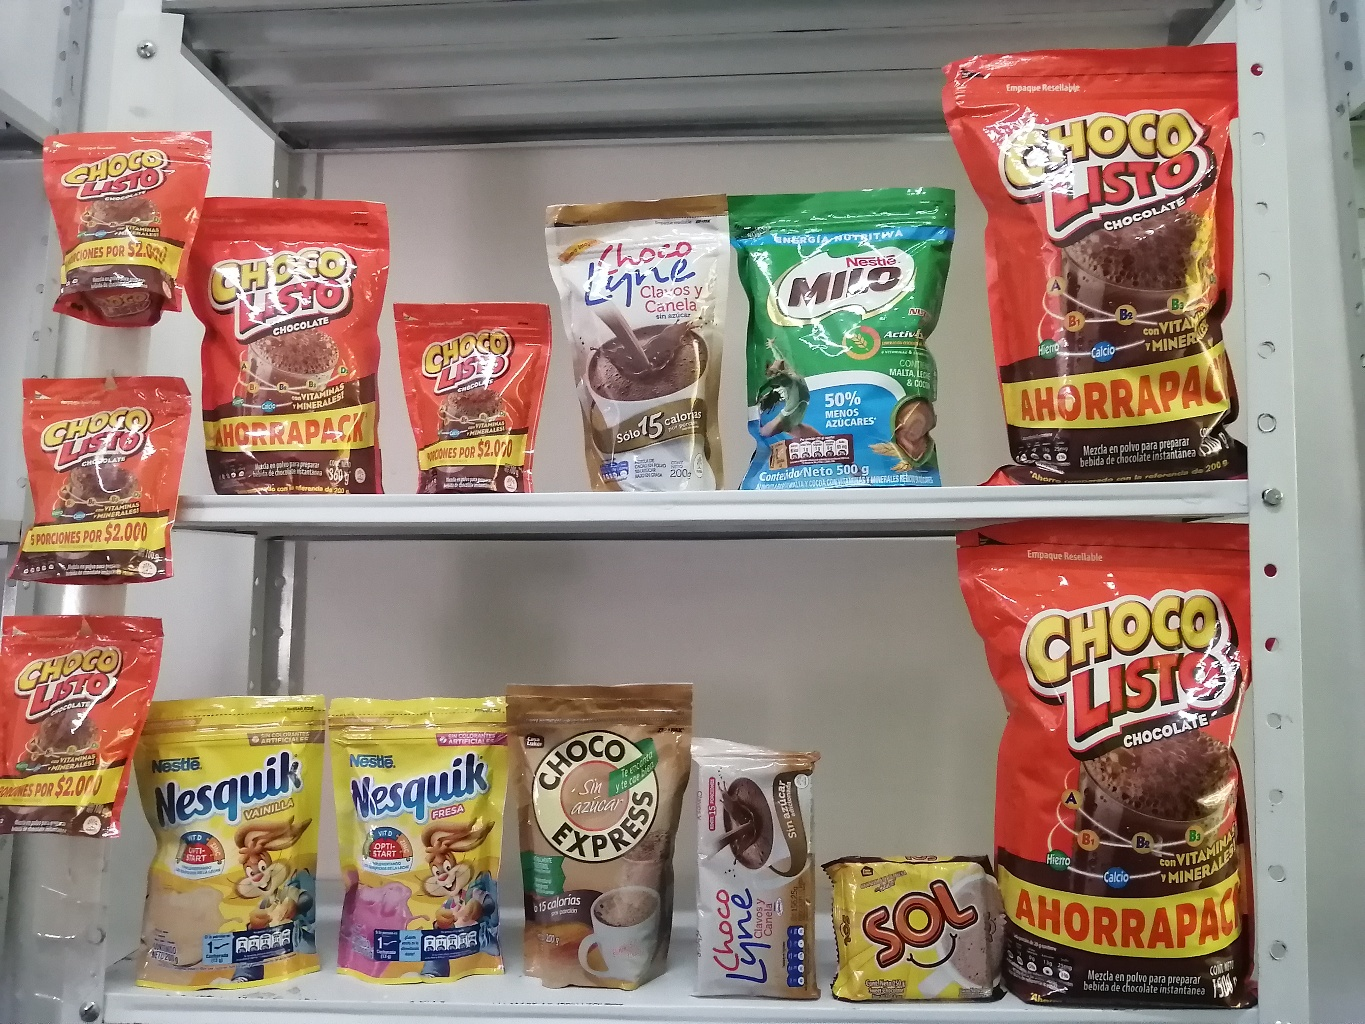COL0170103DYP1,500: (944, 27, 1254, 490)
COL0170103DYP36000: (207, 186, 403, 488)
COL0170205DYP50000: (737, 177, 945, 490)
COL0170305DYP20000: (322, 688, 514, 980)
COL0170306DYP20000: (136, 682, 323, 981)
